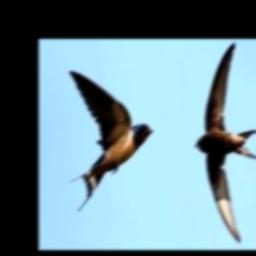Swallow: (194, 43, 256, 243), (69, 70, 154, 211)
